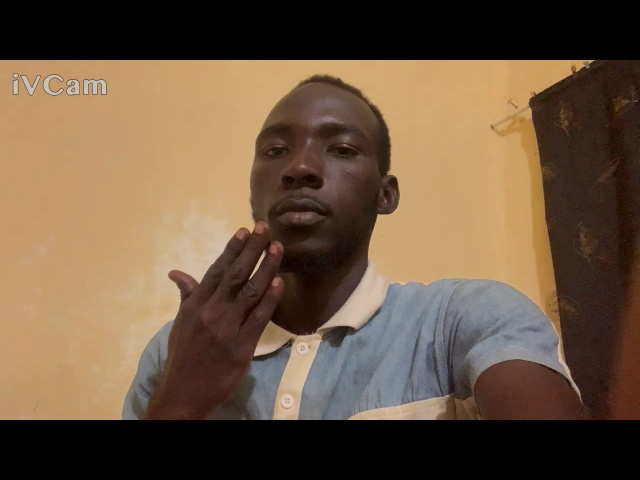merci: (152, 214, 285, 417)
